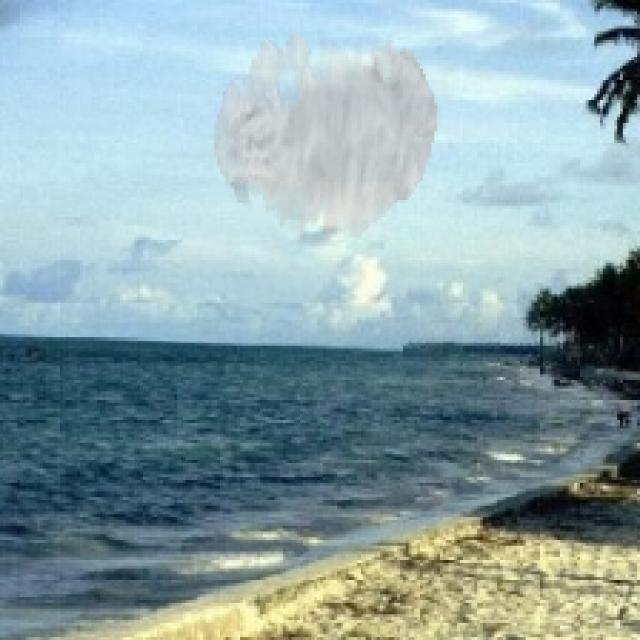smoke: (214, 31, 437, 240)
